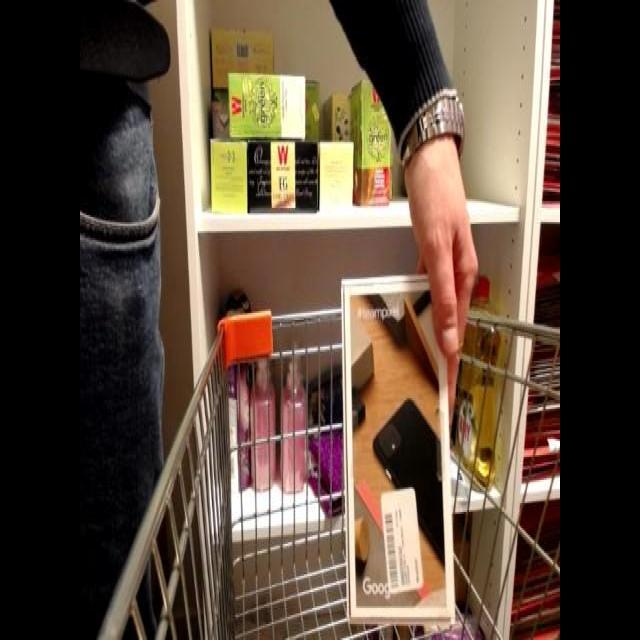Pixel 4: (328, 246, 468, 630)
